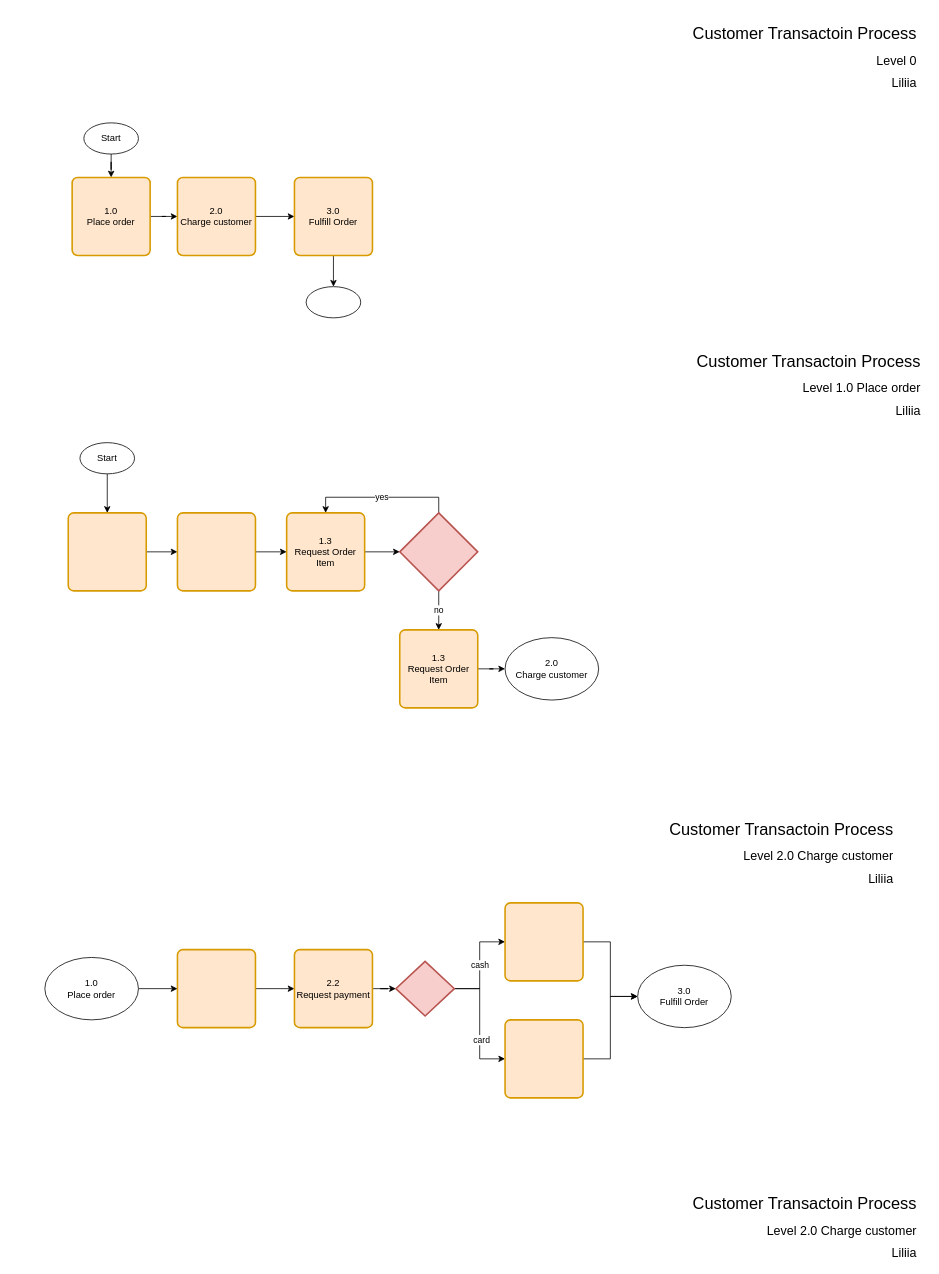
This 939x1274 diagram has some shape labels left out. Here are the shapes that lost their labels. From the top down, the centre of each, then its label:
(333,302): End
(107,551): 1.1 Greet customer
(216,551): 1.2 Request Order
(438,551): Add item?
(543,941): 2.3 Submit cash transaction
(216,988): 2.1 Communicate total
(425,988): Cash or card?
(543,1058): 2.4 Submit card transaction
